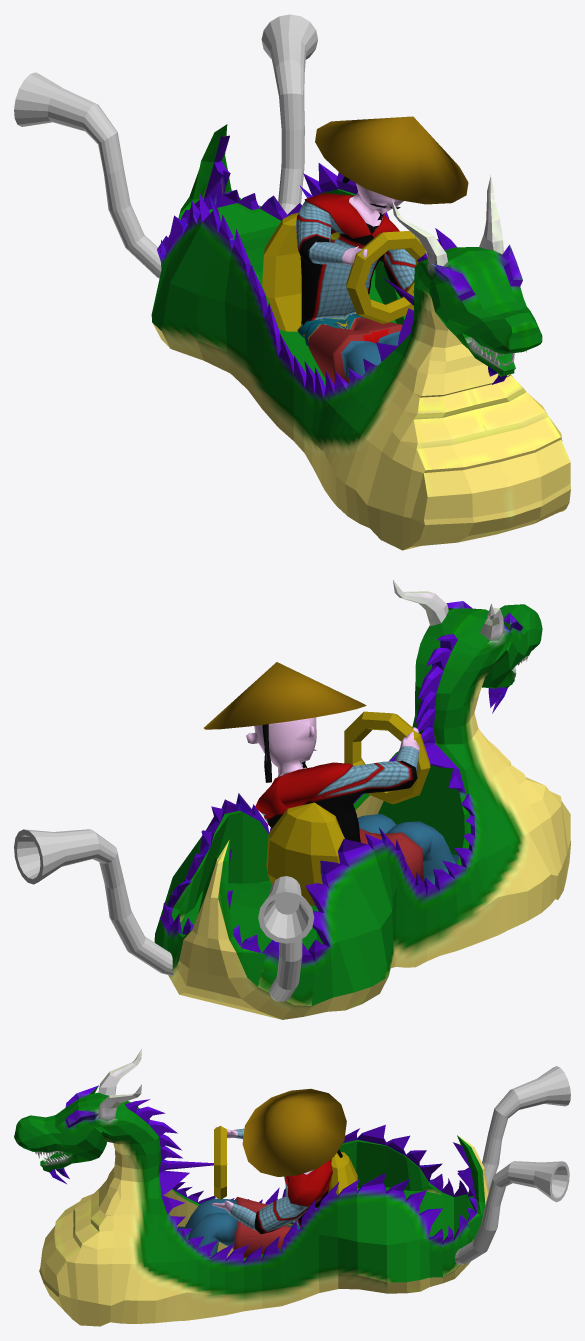
Rendered from ChinoGiroIzq_000193.obj.
3 views of the same model, one above another, from view 1: azimuth 30°, elevation 25°; view 2: azimuth 150°, elevation 25°; view 3: azimuth 270°, elevation 25° (orthographic). The views are drawn at different scales.
Visible parts, largest first — view 1: ChasisChino_ChasisChinoH, Chino_ChinoH, Tubos_TubosH, AsientoChinoMalla_AsientoChinoMH, volanteChino_VolanteChinoH; view 2: ChasisChino_ChasisChinoH, Chino_ChinoH, Tubos_TubosH, AsientoChinoMalla_AsientoChinoMH, volanteChino_VolanteChinoH; view 3: ChasisChino_ChasisChinoH, Chino_ChinoH, Tubos_TubosH, volanteChino_VolanteChinoH, AsientoChinoMalla_AsientoChinoMH.
Boxes of the visible parts, <box> form: ChasisChino_ChasisChinoH: <box>151,124,570,550</box>; Chino_ChinoH: <box>296,116,468,383</box>; Tubos_TubosH: <box>14,14,317,278</box>; AsientoChinoMalla_AsientoChinoMH: <box>262,212,301,331</box>; volanteChino_VolanteChinoH: <box>346,231,425,323</box>; ChasisChino_ChasisChinoH: <box>154,580,570,1019</box>; Chino_ChinoH: <box>203,662,459,884</box>; Tubos_TubosH: <box>14,829,314,1001</box>; AsientoChinoMalla_AsientoChinoMH: <box>266,802,344,906</box>; volanteChino_VolanteChinoH: <box>344,711,430,804</box>; ChasisChino_ChasisChinoH: <box>14,1049,489,1326</box>; Chino_ChinoH: <box>177,1088,346,1257</box>; Tubos_TubosH: <box>455,1066,570,1264</box>; volanteChino_VolanteChinoH: <box>214,1126,226,1199</box>; AsientoChinoMalla_AsientoChinoMH: <box>327,1152,357,1194</box>.
Bounding box in the file's own units: 6.15 × 6.07 × 13.3.
